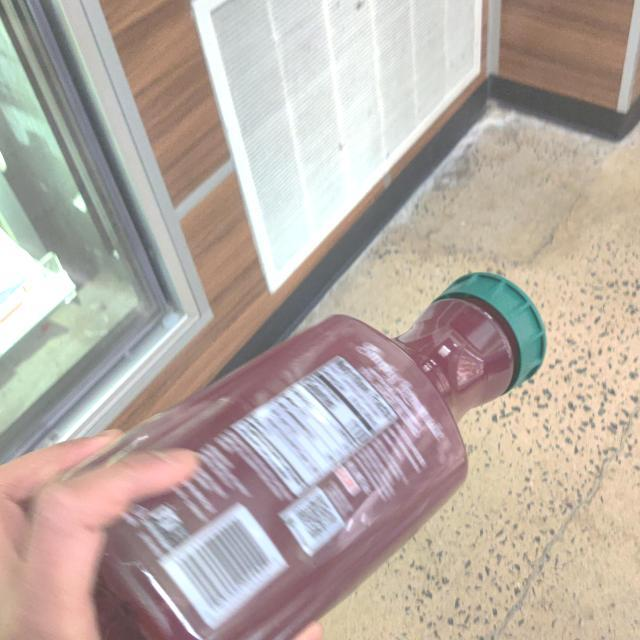Juice: (34, 274, 546, 640)
